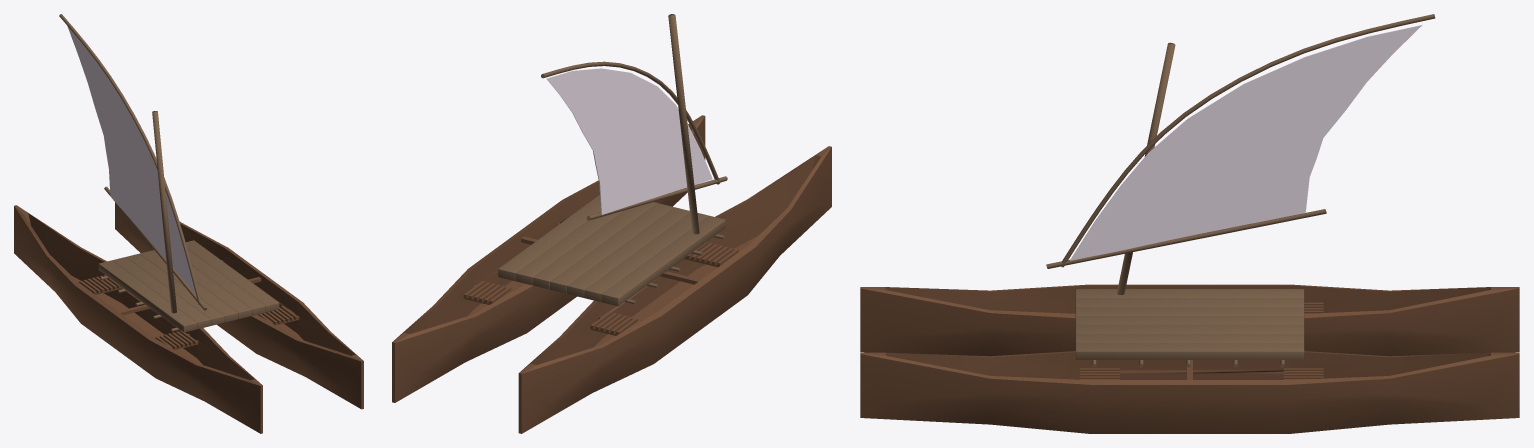
The model's file is Boat concept.fbx.
3 views of the same model, side by side, from view 1: azimuth 30°, elevation 25°; view 2: azimuth 150°, elevation 25°; view 3: azimuth 270°, elevation 25° (orthographic). The views are drawn at different scales.
Visible parts, largest first — view 1: canoe, deck, sail, mast; view 2: canoe, deck, sail, mast; view 3: canoe, sail, deck, mast.
Boxes of the visible parts, bbox=[...] form: canoe: bbox=[14, 202, 363, 433]; deck: bbox=[98, 240, 279, 332]; sail: bbox=[67, 26, 195, 293]; mast: bbox=[59, 14, 207, 313]; canoe: bbox=[392, 115, 831, 433]; deck: bbox=[498, 195, 725, 306]; sail: bbox=[546, 68, 712, 214]; mast: bbox=[541, 14, 727, 234]; canoe: bbox=[860, 284, 1519, 433]; sail: bbox=[1070, 25, 1422, 260]; deck: bbox=[1075, 289, 1304, 359]; mast: bbox=[1046, 14, 1435, 294].
Bounding box in the file's own units: 447 × 726 × 1240.
